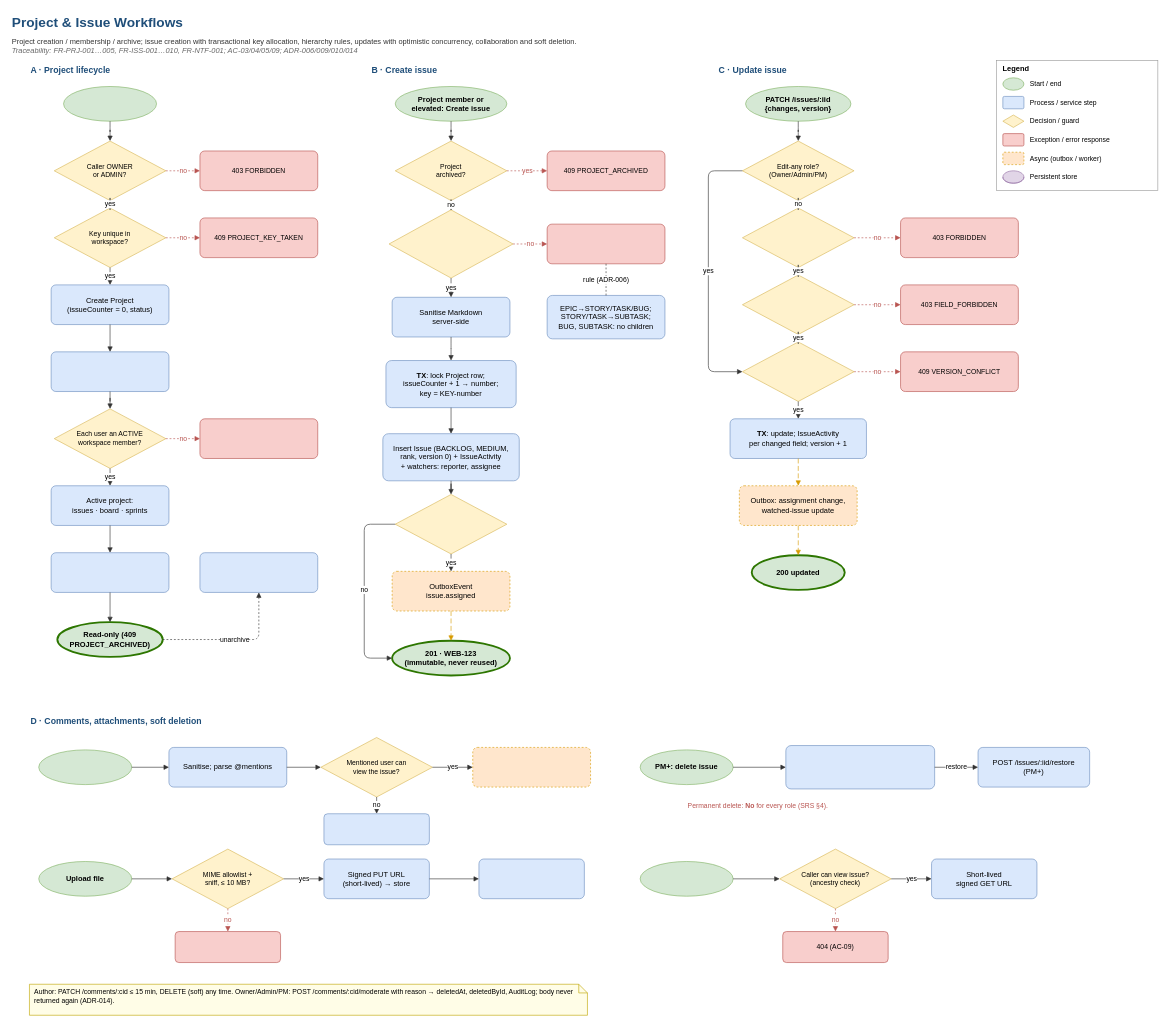
Some shapes in this 1169 by 1026 pixel diagram are drawn without their labels. The centre of each missing label's shape, as x and y in pixels:
"422 FILE_REJECTED" belongs at point 228,947.
"422 INVALID_HIERARCHY / ASSIGNEE_NOT_ELIGIBLE" belongs at point 606,244.
"422 NOT_WORKSPACE_MEMBER" belongs at point 258,438.
"Assign PM + members POST /projects/:pid/members" belongs at point 110,371.
"Assignee set and ≠ caller?" belongs at point 451,524.
"DELETE /issues/:iid: deletedAt, deletedById; hidden + removed from open sprint" belongs at point 860,767.
"Download file" belongs at point 686,878.
"Member and assignee or reporter?" belongs at point 798,237.
"Mention ignored (no leak, no notify)" belongs at point 376,829.
"New project" belongs at point 110,103.
"Only title, description, dueAt, status?" belongs at point 798,304.
"Outbox: mention (not to self)" belongs at point 531,767.
"Owner/Admin archive: TX archivedAt + AuditLog" belongs at point 110,572.
"Owner/Admin unarchive TX + AuditLog (ADR-014)" belongs at point 258,572.
"POST comment" belongs at point 85,767.
"Save Attachment metadata only" belongs at point 531,878.
"Type + parent valid? assignee eligible? Member: assignee self / none" belongs at point 450,243.
"version matches?" belongs at point 798,371.
